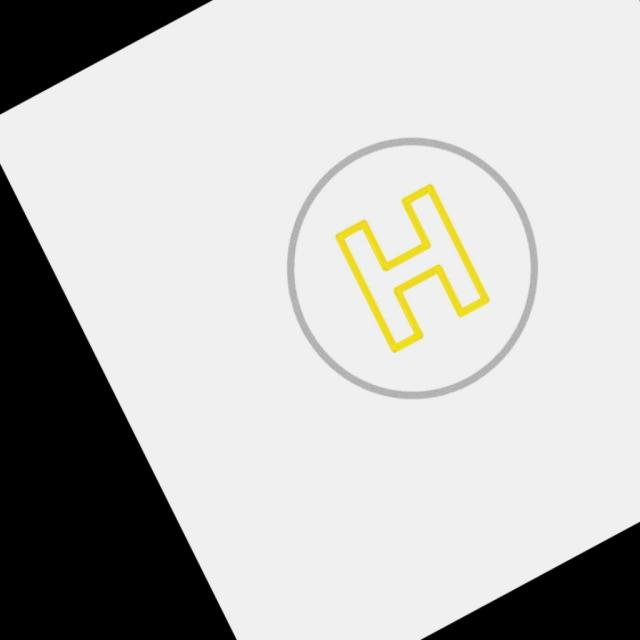helipad: (283, 128, 543, 404)
